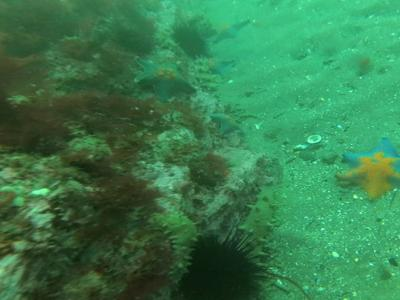holothurian: (149, 207, 196, 287), (235, 180, 278, 263), (195, 55, 224, 93)
urchin: (168, 235, 274, 296), (169, 20, 220, 61)
